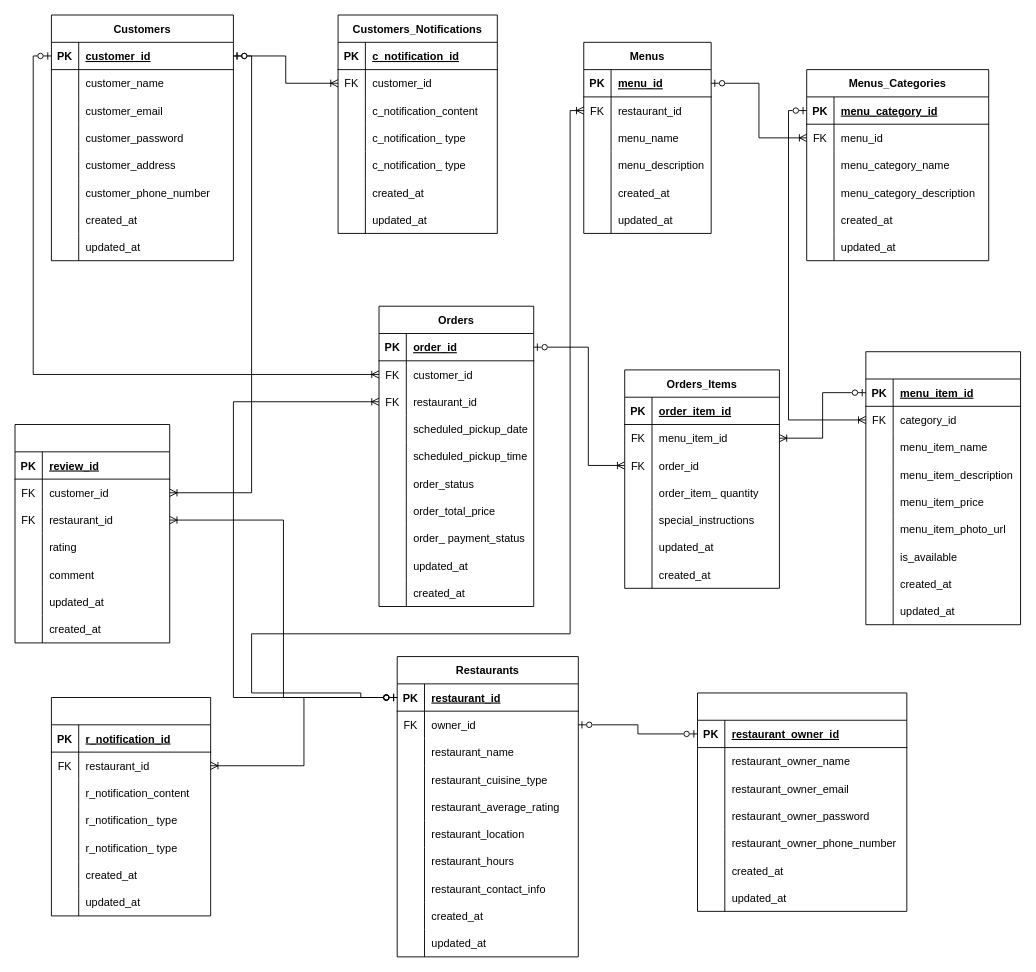
Some shapes in this 1036 by 972 pixel diagram are drawn without their labels. The shapes that lost their labels are listed below. From the top down, each one's box as (x1, y1, x2, y2) in pixels, then its label:
(865, 351, 1021, 625): Menus_Items
(14, 424, 170, 643): Reviews
(51, 697, 211, 916): Restaurant_Notifications
(697, 692, 907, 911): Restaurant_Owners
